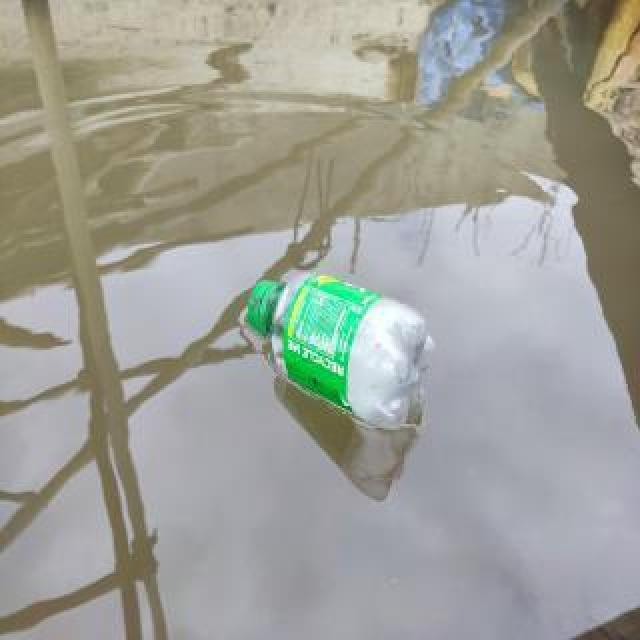bottle: (245, 266, 439, 434)
